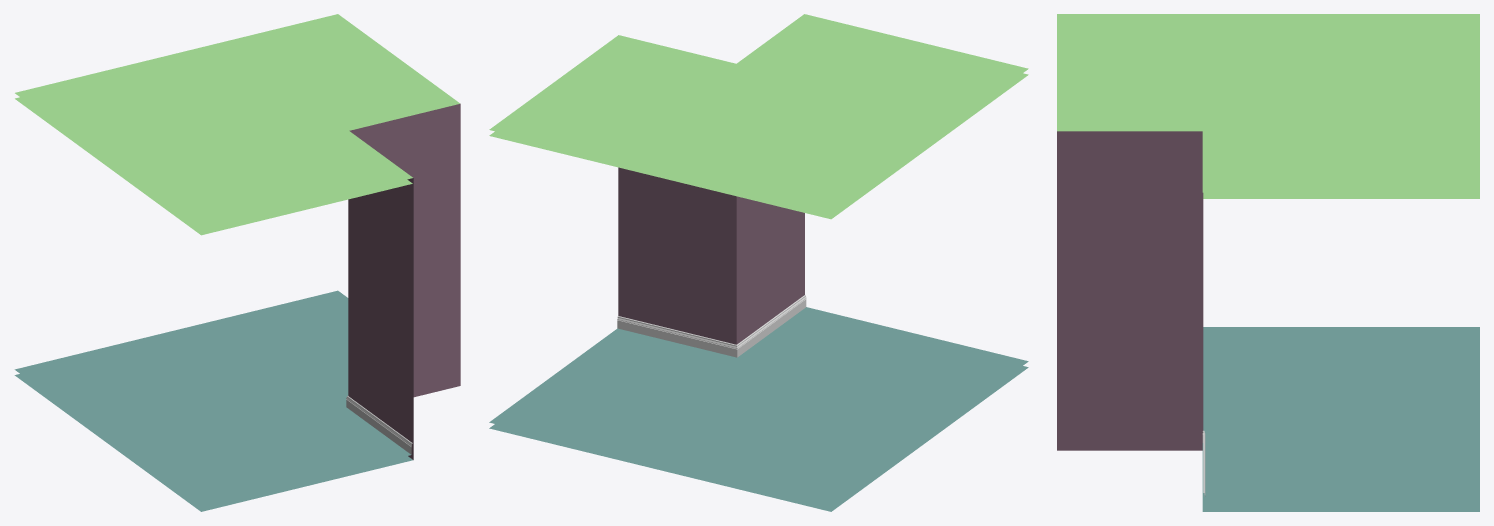
File: Wall_2x2_corner_out_half.fbx
3 views of the same model, side by side, from view 1: azimuth 30°, elevation 25°; view 2: azimuth 150°, elevation 25°; view 3: azimuth 270°, elevation 25° (orthographic). The views are drawn at different scales.
Parts seen in each view (by area): view 1: Wall_2x2_corner_out_half; view 2: Wall_2x2_corner_out_half; view 3: Wall_2x2_corner_out_half.
Boxes of the visible parts, x1,y1,x2,y2 form: Wall_2x2_corner_out_half: (14,14,460,511); Wall_2x2_corner_out_half: (489,14,1028,511); Wall_2x2_corner_out_half: (1057,14,1479,511).
Size of the model in its own units: 3 by 2.5 by 3.
